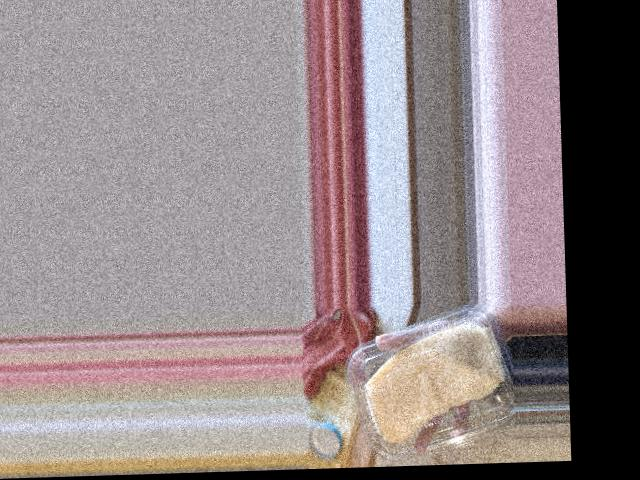cheese: (341, 313, 517, 458)
